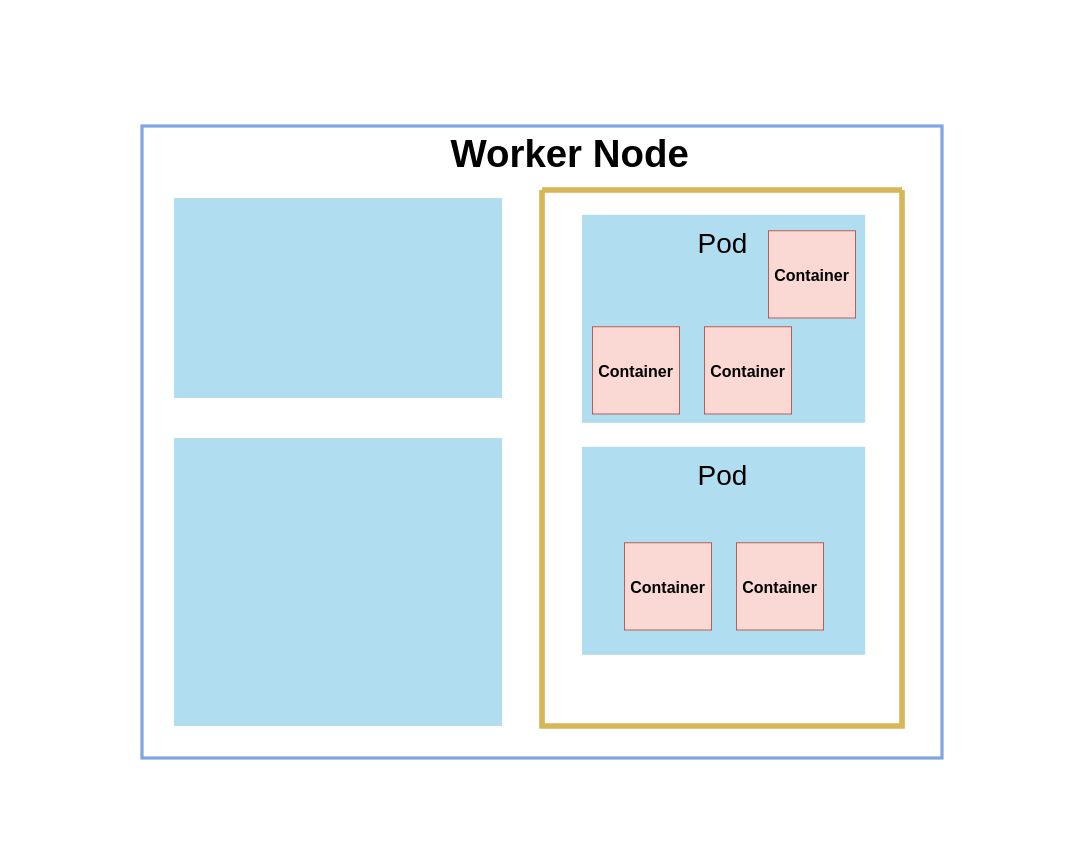
This 1067x867 diagram has some shape labels left out. Each missing label, with the centre of its shape:
"Container Runtime" goes at [721,457].
"Kube-proxy" goes at [338,582].
"Kubectl" goes at [338,298].
